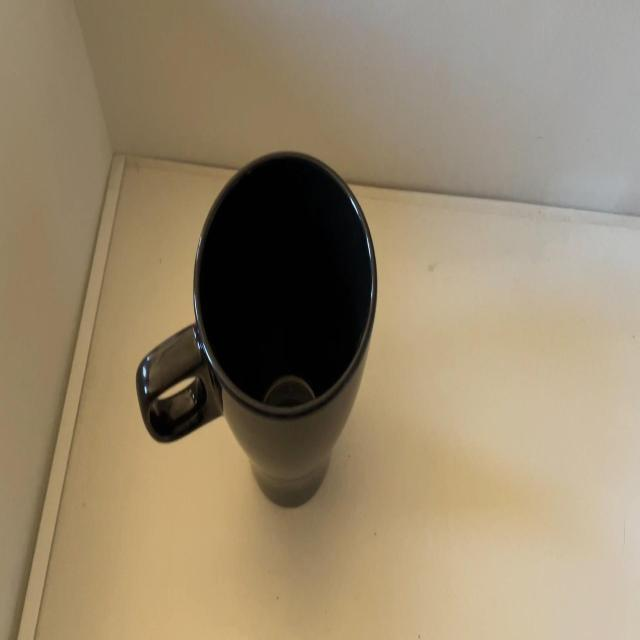cup: (136, 146, 378, 512)
